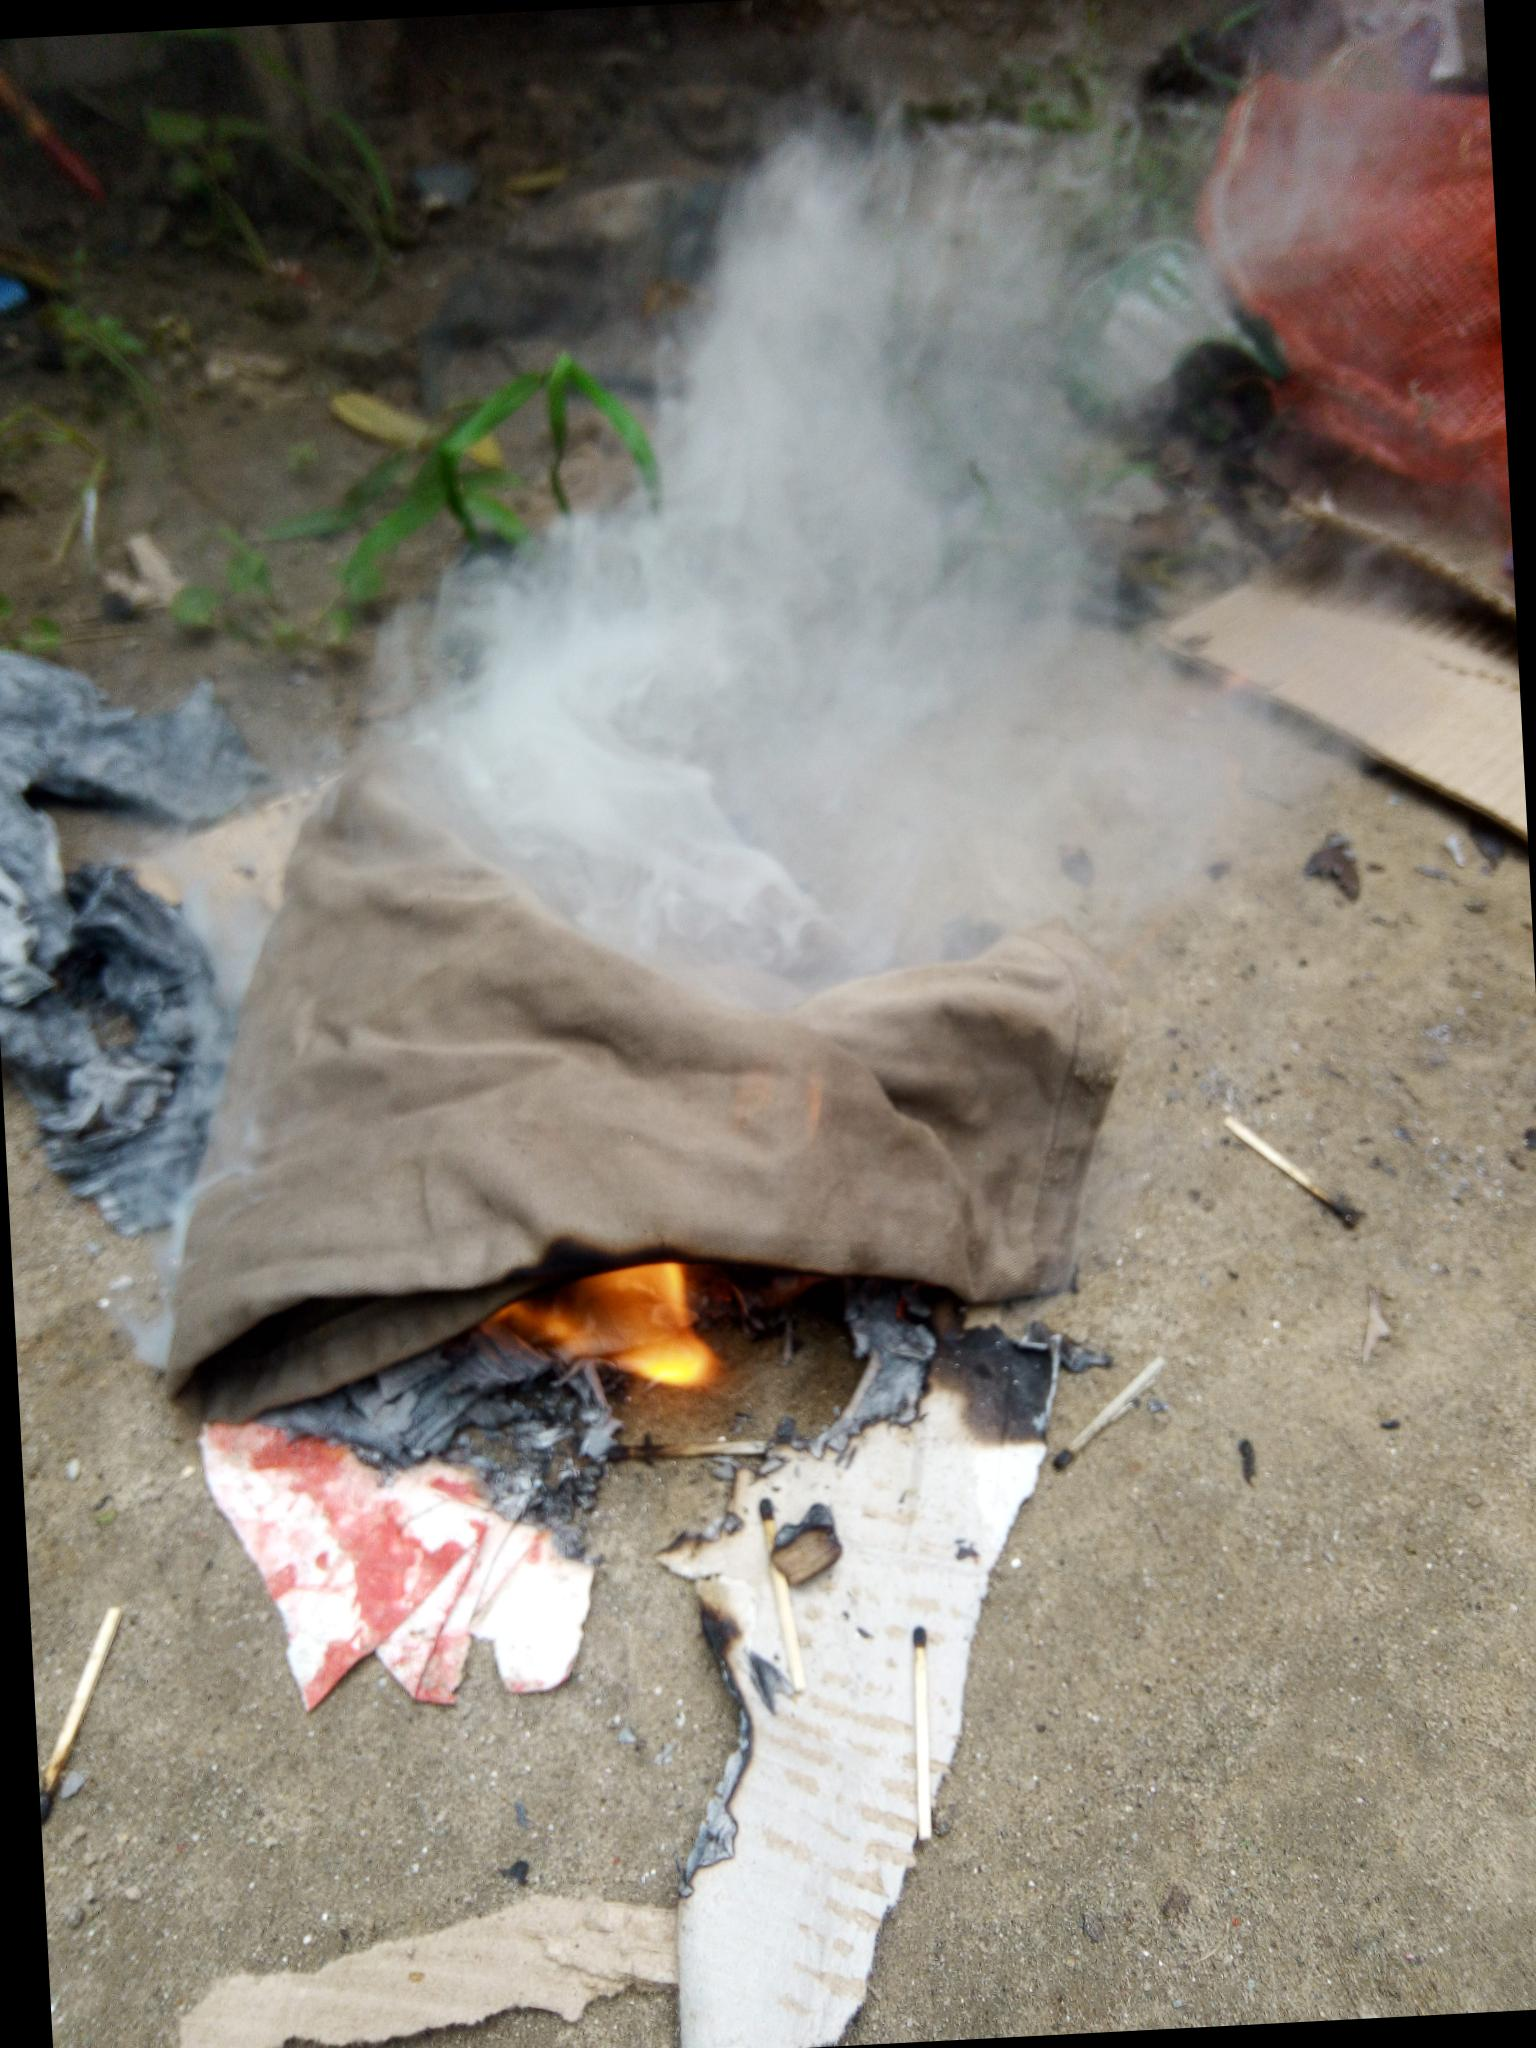Fire: (486, 1248, 721, 1401)
Smoke: (397, 94, 1270, 1035)
